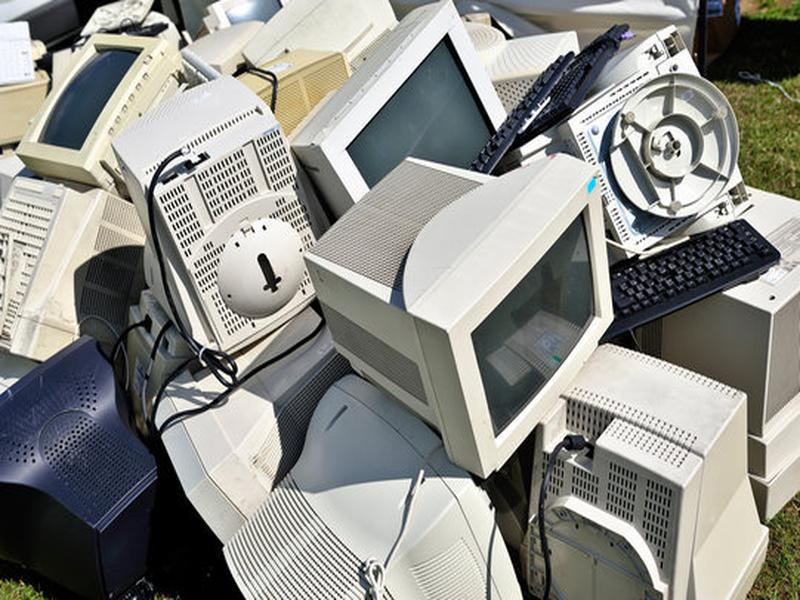keyboard: (609, 218, 783, 332), (474, 46, 577, 175)
tv_pc: (302, 154, 613, 478), (209, 374, 532, 600), (276, 1, 511, 205), (1, 332, 166, 596), (10, 30, 182, 190)
